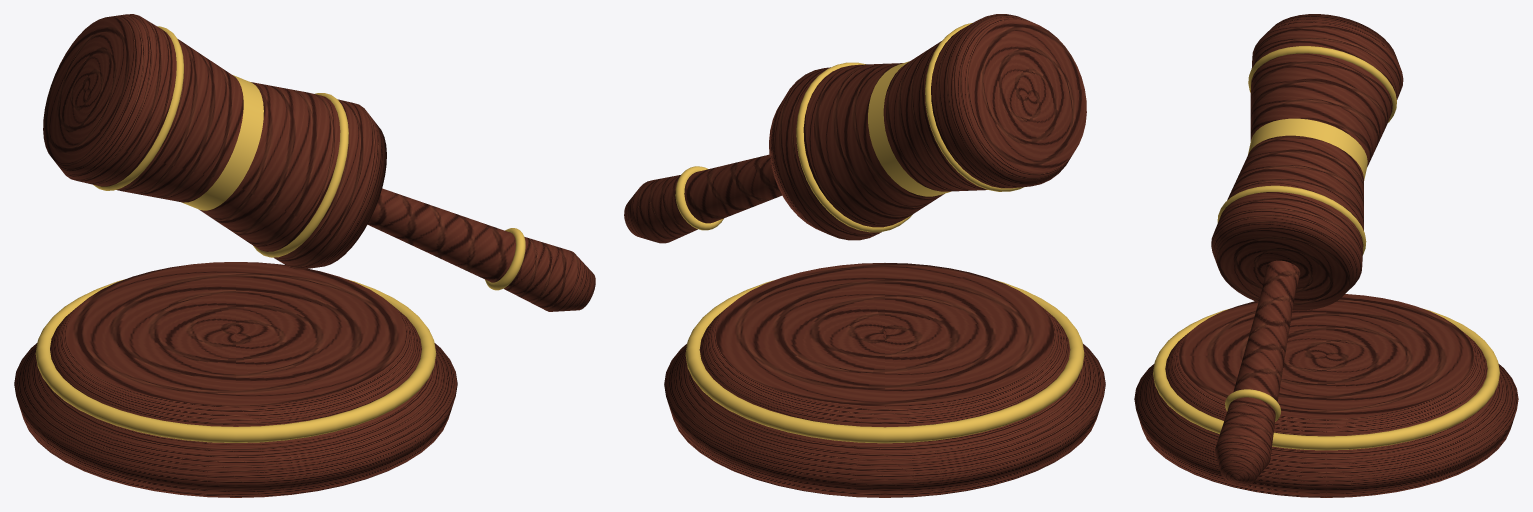
The model's file is gavel.glb.
The picture shows the model from 3 angles, left to right: view 1: azimuth 30°, elevation 25°; view 2: azimuth 150°, elevation 25°; view 3: azimuth 270°, elevation 25°; orthographic projection. The views are drawn at different scales.
Bounding box in the file's own units: 1.56 × 1.23 × 1.2.
Materials: 2 (1 with a texture image).
